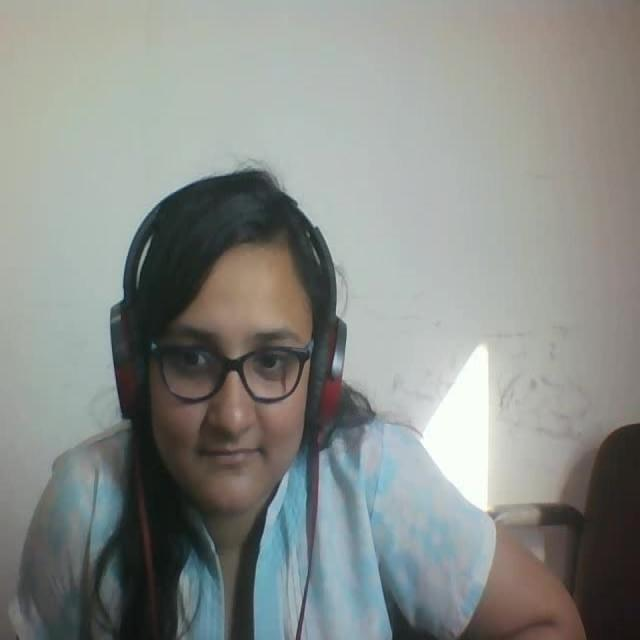Engaged: (101, 159, 357, 524)
